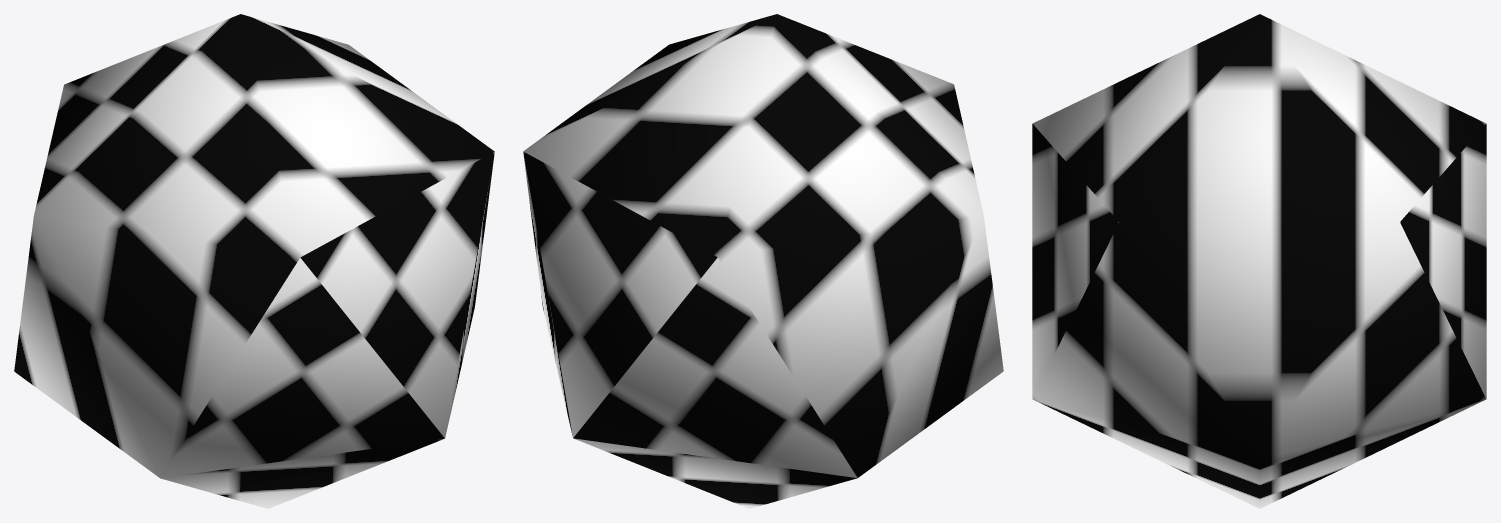
File: initqi2.dae
The picture shows the model from 3 angles, left to right: view 1: azimuth 30°, elevation 25°; view 2: azimuth 150°, elevation 25°; view 3: azimuth 270°, elevation 25°; orthographic projection. The views are drawn at different scales.
Parts seen in each view (by area): view 1: item; view 2: item; view 3: item.
Boxes of the visible parts, x1,y1,x2,y2 form: item: (14, 14, 494, 508); item: (523, 14, 1003, 508); item: (1032, 14, 1486, 508).
Bounding box in the file's own units: 2.06 × 1.91 × 2.23.
1 material, 1 textured.
